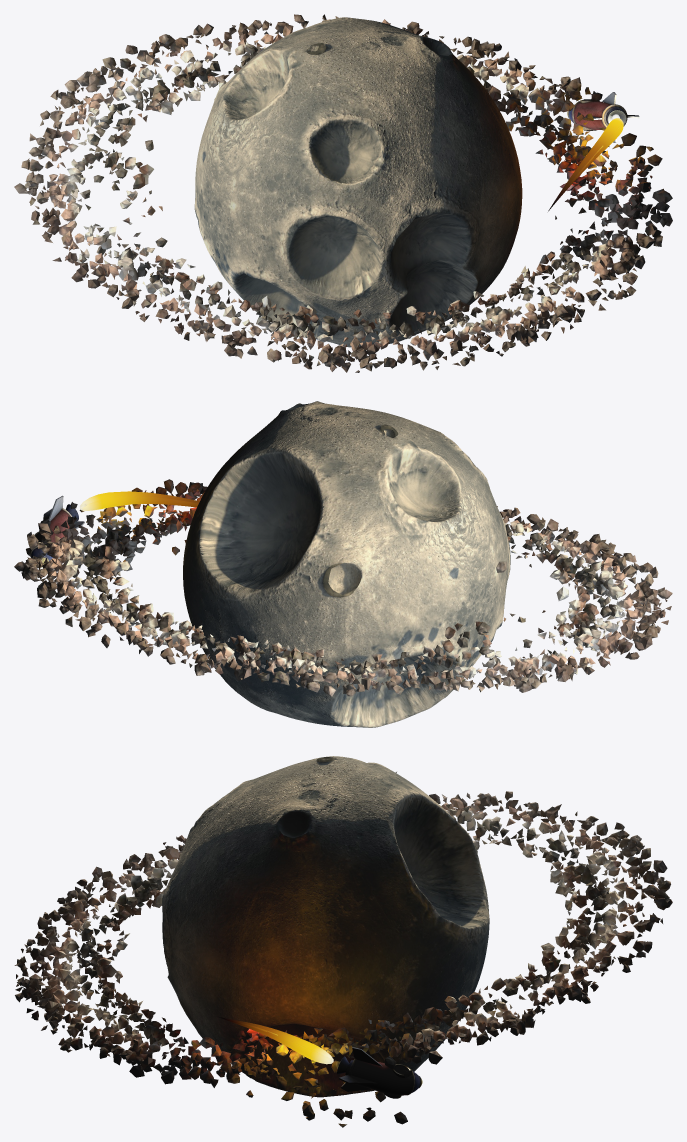
File: rocket_orbiting_moon.glb
The picture shows the model from 3 angles, top to bottom: view 1: azimuth 30°, elevation 25°; view 2: azimuth 150°, elevation 25°; view 3: azimuth 270°, elevation 25°; orthographic projection.
Visible parts, largest first — view 1: Subdivision_Surface, Ring_1, Raket_1; view 2: Subdivision_Surface, Ring_1, Raket_1; view 3: Subdivision_Surface, Ring_1, Raket_1.
Boxes of the visible parts, box(x1,y1,x2,y2) form: Subdivision_Surface: box(194, 17, 522, 347); Ring_1: box(14, 14, 672, 372); Raket_1: box(548, 92, 639, 211); Subdivision_Surface: box(183, 401, 510, 727); Ring_1: box(14, 479, 672, 696); Raket_1: box(30, 491, 199, 567); Subdivision_Surface: box(162, 756, 489, 1097); Ring_1: box(14, 772, 672, 1127); Raket_1: box(216, 1016, 422, 1098).
Size of the model in its own units: 413 by 200 by 389.
3 materials, 3 textured.
